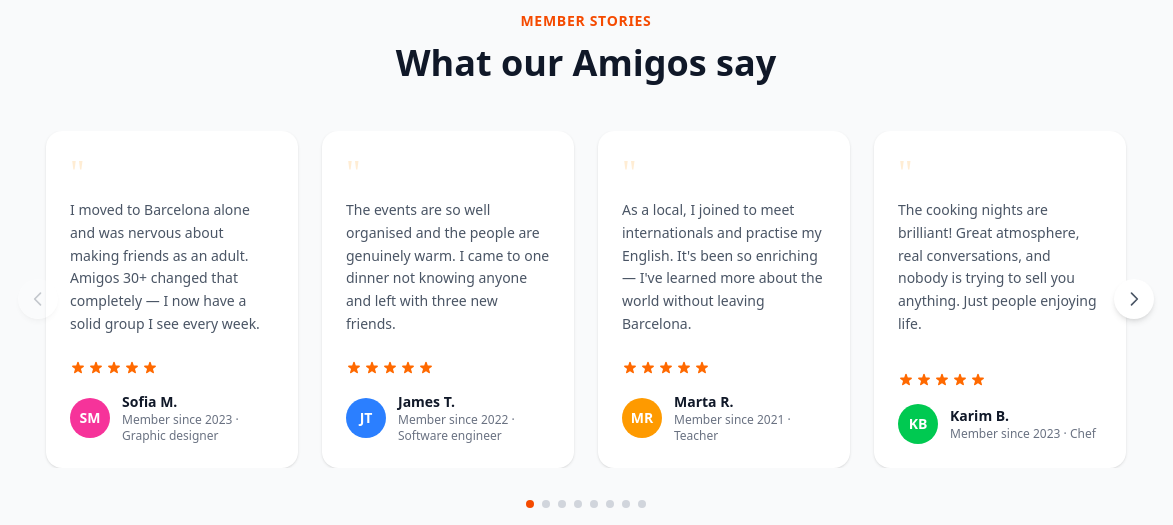
TestimonialsSection › disables next button on the last card
Click the button named "Go to testimonial 8" at (642, 504), box x1=638 y1=500 x2=646 y2=508
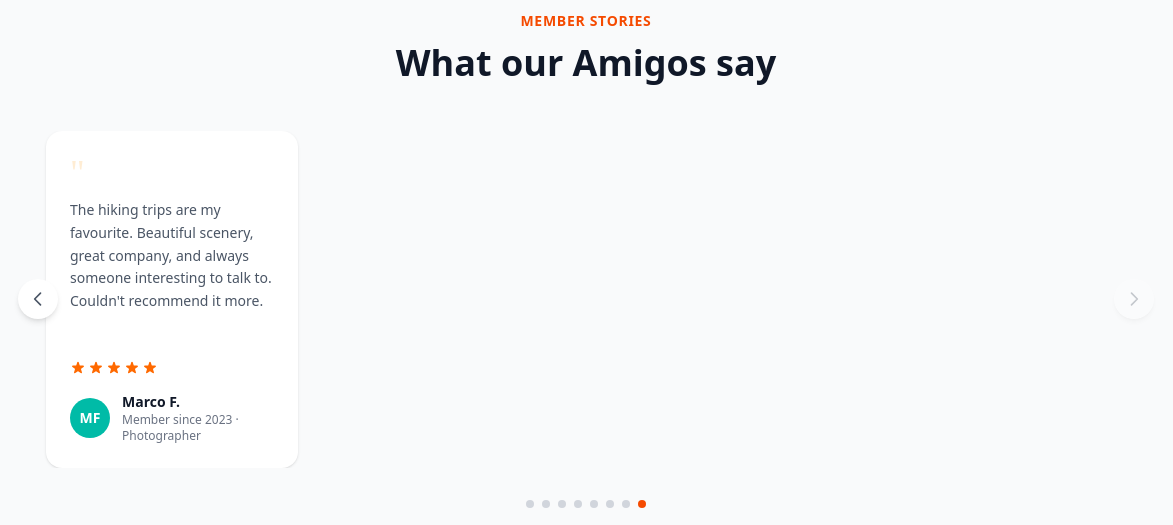
expect the button named "Next testimonials" is disabled: met, box x1=1114 y1=279 x2=1154 y2=319
